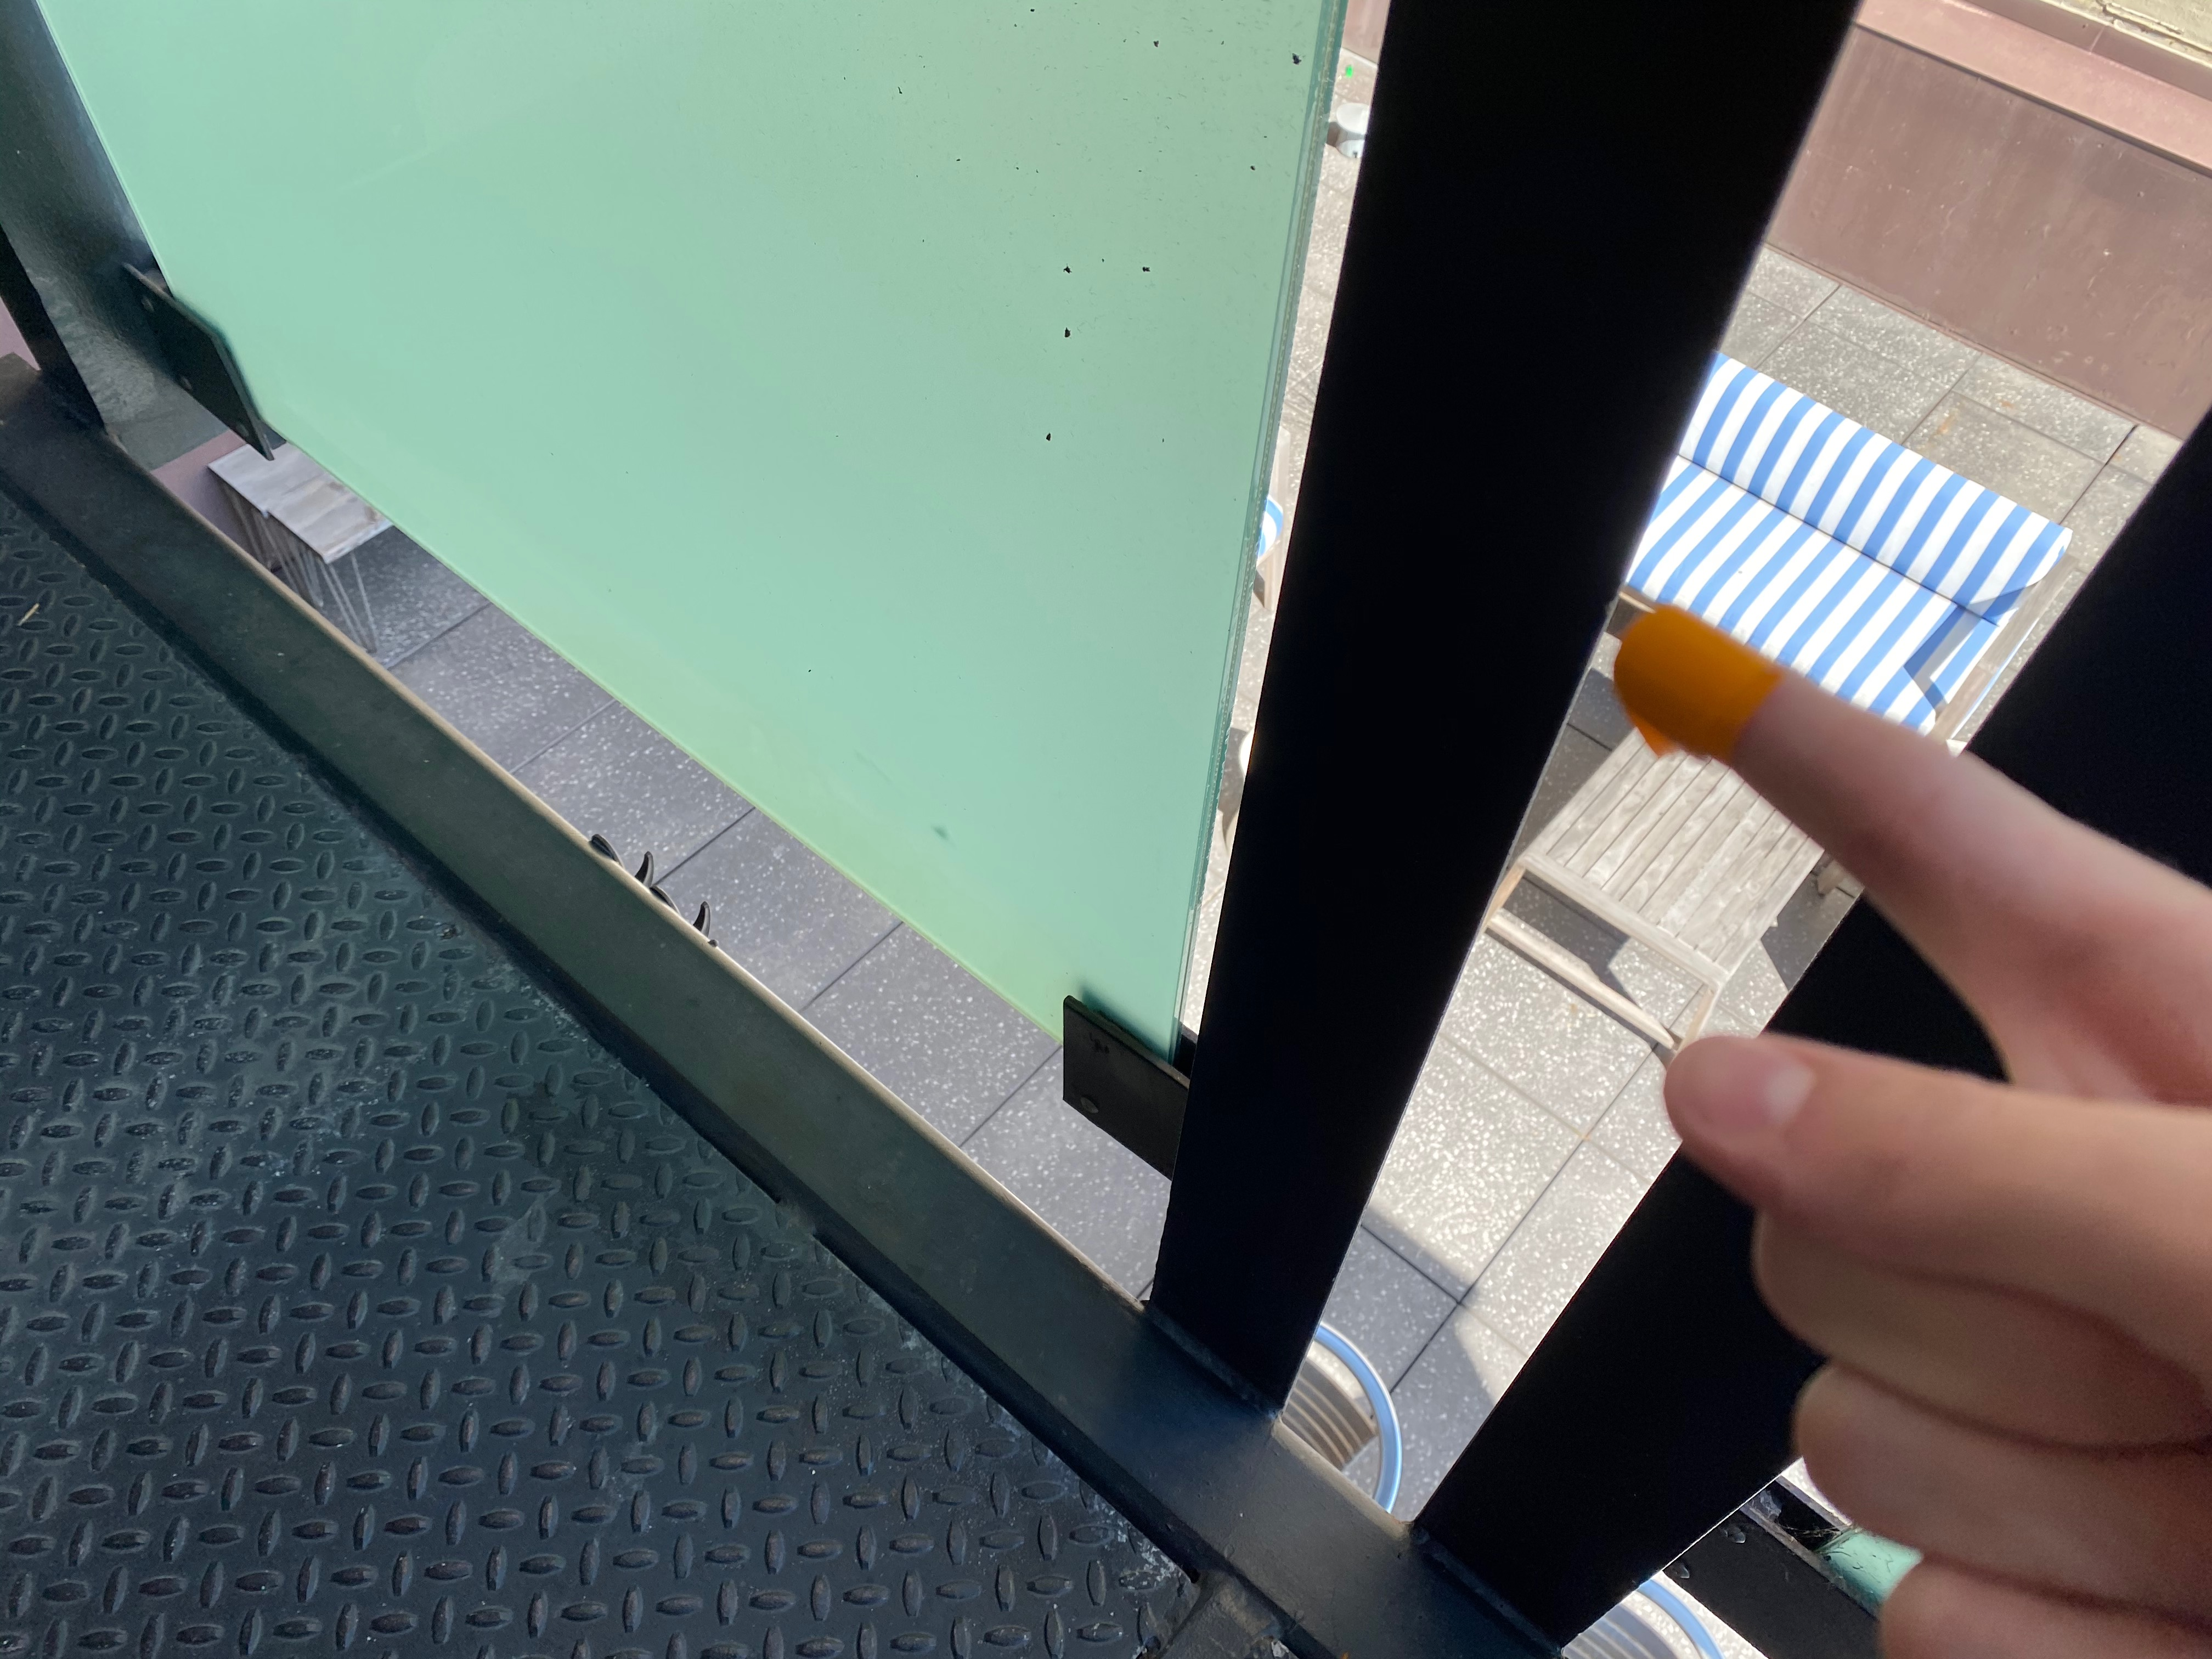fingertip: (1576, 579, 1817, 812)
